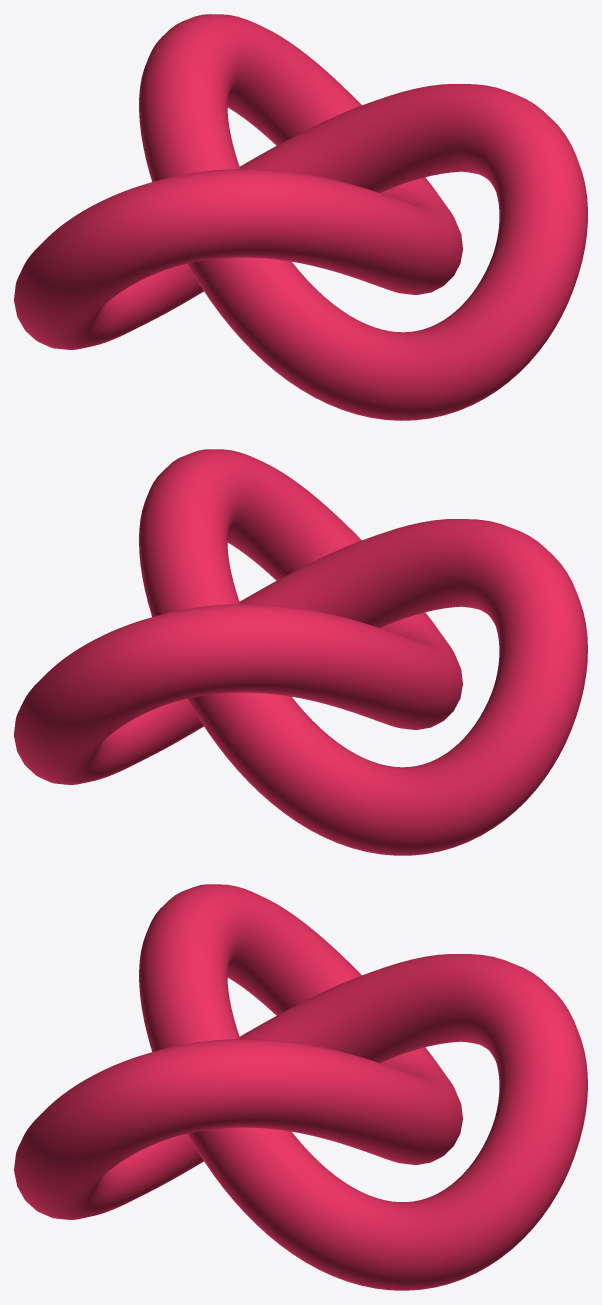
The model's file is torus-knot.glb.
3 views of the same model, one above another, from view 1: azimuth 30°, elevation 25°; view 2: azimuth 150°, elevation 25°; view 3: azimuth 270°, elevation 25° (orthographic).
Visible parts, largest first — view 1: TorusKnot.001; view 2: TorusKnot.001; view 3: TorusKnot.001.
Part boxes in pixels (box(x1,y1,x2,y2)): TorusKnot.001: box(14, 14, 587, 420); TorusKnot.001: box(14, 449, 587, 855); TorusKnot.001: box(14, 884, 587, 1290).
Size of the model in its own units: 6.06 by 2.99 by 6.47.
